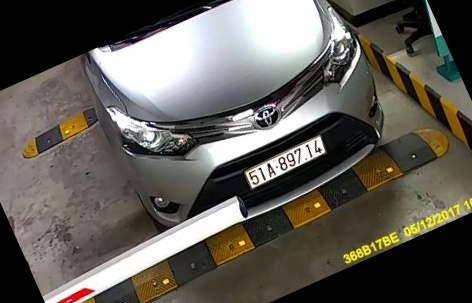plate: (245, 129, 335, 202)
